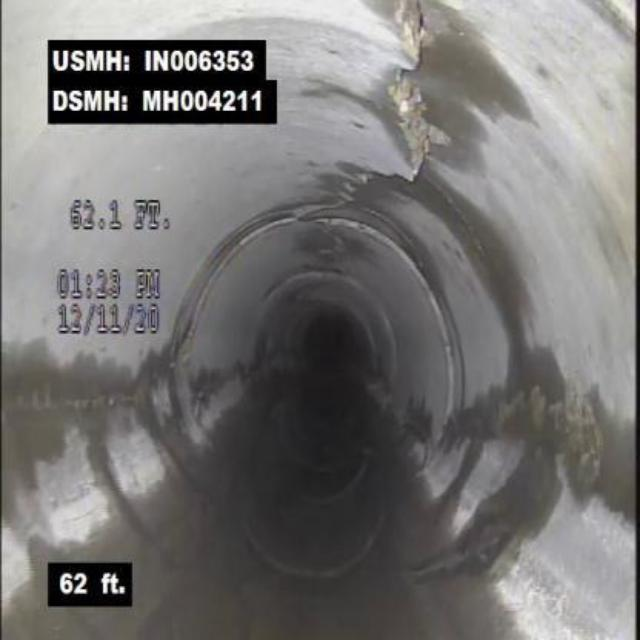Buckling: (378, 5, 438, 182)
Crack: (12, 380, 131, 420), (292, 171, 371, 222)
